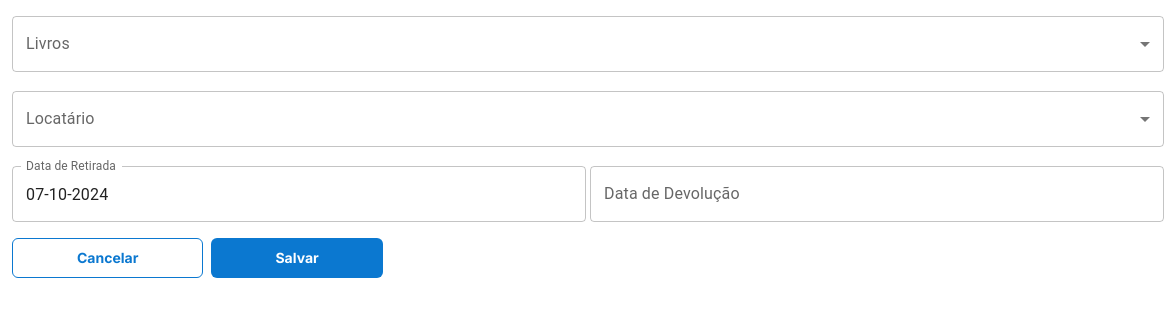
RentalForm Component › should show error messages when required fields are missing
Click the button "Salvar": (297, 258) [211,238,383,278]
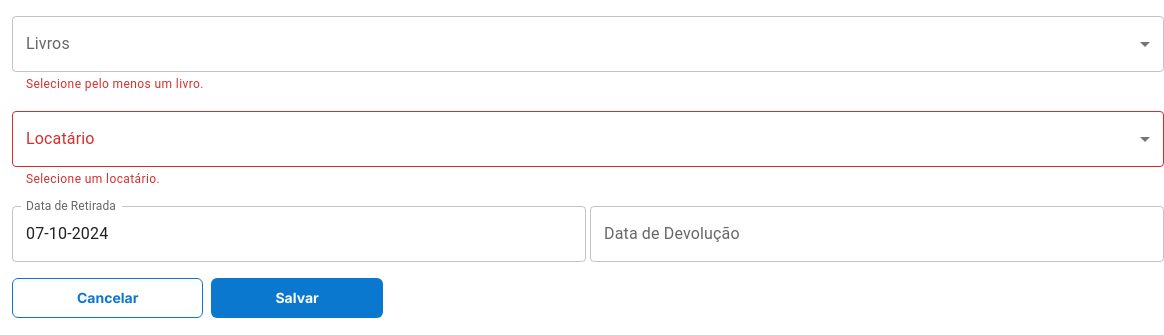
Check: the text "Selecione um locatário." is shown, box [26,172,160,186]
Check: the text "Selecione pelo menos um livro." is shown, box [26,77,204,91]
